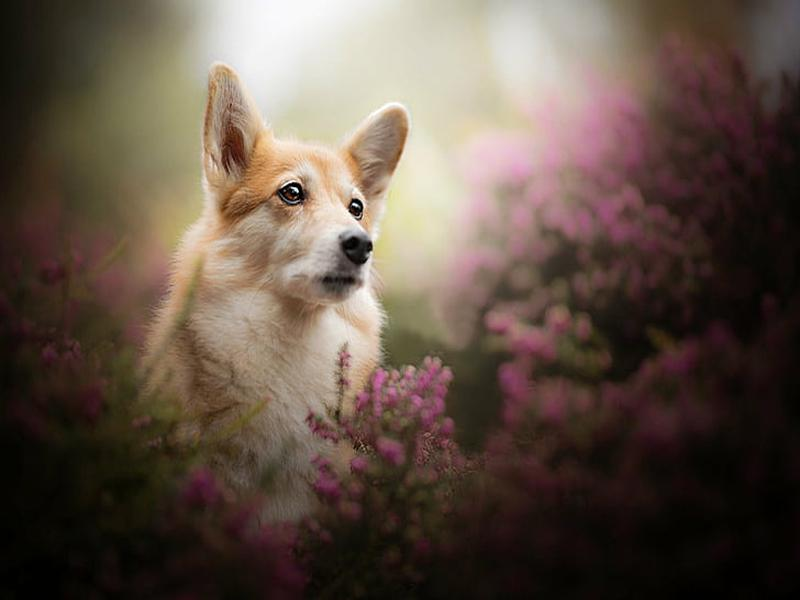corgi: (201, 60, 414, 311)
